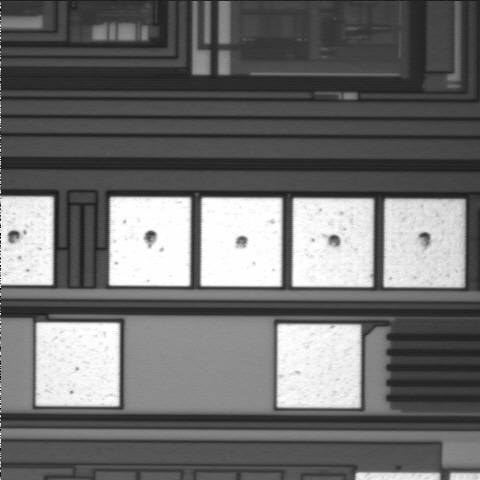pad: (109, 197, 191, 286), (292, 198, 374, 287), (201, 197, 282, 287), (384, 199, 465, 287), (36, 322, 120, 406), (277, 324, 361, 408)
